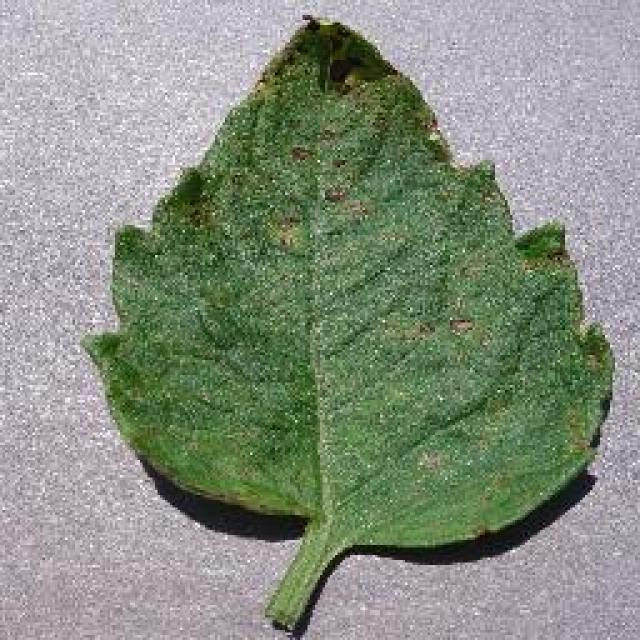Tomato Septoria spot leaf: (84, 14, 618, 548)
